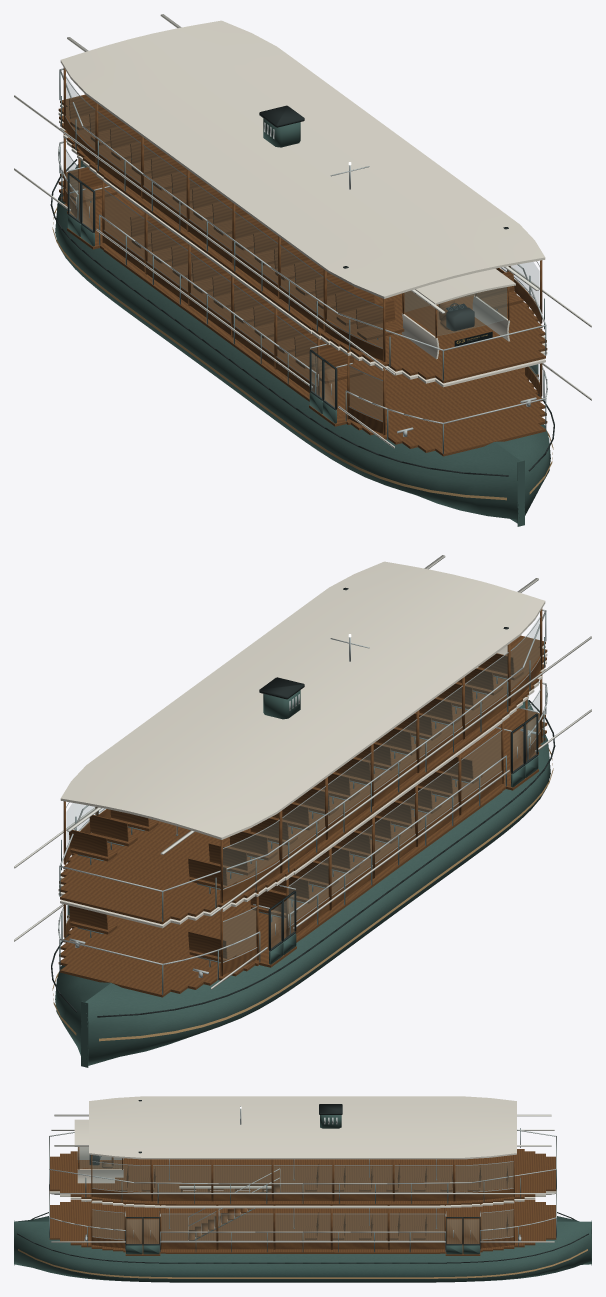
Rendered from lacuna-f26-lod1.glb.
3 views of the same model, one above another, from view 1: azimuth 30°, elevation 25°; view 2: azimuth 150°, elevation 25°; view 3: azimuth 270°, elevation 25° (orthographic). The views are drawn at different scales.
Parts seen in each view (by area): view 1: LOD1-ferry-detail-1-pearl-batch, LOD1-ferry-detail-1-floor-batch, LOD1-ferry-detail-1-wood-batch, LOD1-ferry-detail-1-paint-batch, LOD1-ferry-detail-1-glass-batch, LOD1-ferry-detail-1-metal-batch, LOD1-ferry-detail-1-interior-batch, LOD1-ferry-detail-1-dark-batch, LOD1-ferry-detail-1-steel-batch, LOD1-ferry-detail-1-livery-batch; view 2: LOD1-ferry-detail-1-pearl-batch, LOD1-ferry-detail-1-floor-batch, LOD1-ferry-detail-1-wood-batch, LOD1-ferry-detail-1-paint-batch, LOD1-ferry-detail-1-glass-batch, LOD1-ferry-detail-1-metal-batch, LOD1-ferry-detail-1-interior-batch, LOD1-ferry-detail-1-steel-batch, LOD1-ferry-detail-1-dark-batch, LOD1-ferry-detail-1-livery-batch; view 3: LOD1-ferry-detail-1-floor-batch, LOD1-ferry-detail-1-pearl-batch, LOD1-ferry-detail-1-glass-batch, LOD1-ferry-detail-1-paint-batch, LOD1-ferry-detail-1-wood-batch, LOD1-ferry-detail-1-metal-batch, LOD1-ferry-detail-1-interior-batch, LOD1-ferry-detail-1-dark-batch, LOD1-ferry-detail-1-livery-batch, LOD1-ferry-detail-1-steel-batch, LOD1-ferry-door-0-starboard-leaf--1-glass-batch, LOD1-ferry-door-0-starboard-leaf-1-glass-batch (+2 smaller).
Part boxes in pixels (x1,y1,x2,y2): LOD1-ferry-detail-1-pearl-batch: (58,20,547,387); LOD1-ferry-detail-1-floor-batch: (58,94,547,456); LOD1-ferry-detail-1-wood-batch: (63,67,542,435); LOD1-ferry-detail-1-paint-batch: (55,118,550,526); LOD1-ferry-detail-1-glass-batch: (66,76,539,419); LOD1-ferry-detail-1-metal-batch: (58,68,547,436); LOD1-ferry-detail-1-interior-batch: (14,14,591,448); LOD1-ferry-detail-1-dark-batch: (50,105,554,476); LOD1-ferry-detail-1-steel-batch: (59,70,546,453); LOD1-ferry-detail-1-livery-batch: (52,207,553,500); LOD1-ferry-detail-1-pearl-batch: (58,561,547,928); LOD1-ferry-detail-1-floor-batch: (58,635,547,997); LOD1-ferry-detail-1-wood-batch: (63,608,542,976); LOD1-ferry-detail-1-paint-batch: (55,690,550,1067); LOD1-ferry-detail-1-glass-batch: (66,617,539,960); LOD1-ferry-detail-1-metal-batch: (58,609,547,977); LOD1-ferry-detail-1-interior-batch: (14,555,591,989); LOD1-ferry-detail-1-steel-batch: (59,612,546,994); LOD1-ferry-detail-1-dark-batch: (51,587,555,1017); LOD1-ferry-detail-1-livery-batch: (52,748,553,1041); LOD1-ferry-detail-1-floor-batch: (49,1149,556,1255); LOD1-ferry-detail-1-pearl-batch: (49,1096,556,1208); LOD1-ferry-detail-1-glass-batch: (78,1147,513,1239); LOD1-ferry-detail-1-paint-batch: (14,1115,591,1282); LOD1-ferry-detail-1-wood-batch: (78,1147,514,1249); LOD1-ferry-detail-1-metal-batch: (49,1106,556,1241); LOD1-ferry-detail-1-interior-batch: (51,1114,554,1242); LOD1-ferry-detail-1-dark-batch: (17,1100,588,1263); LOD1-ferry-detail-1-livery-batch: (18,1249,587,1278); LOD1-ferry-detail-1-steel-batch: (49,1128,556,1252); LOD1-ferry-door-0-starboard-leaf--1-glass-batch: (464,1219,478,1243); LOD1-ferry-door-0-starboard-leaf-1-glass-batch: (447,1219,461,1243).
Size of the model in its own units: 7 by 7.97 by 26.
Materials: 14 (4 with a texture image).
